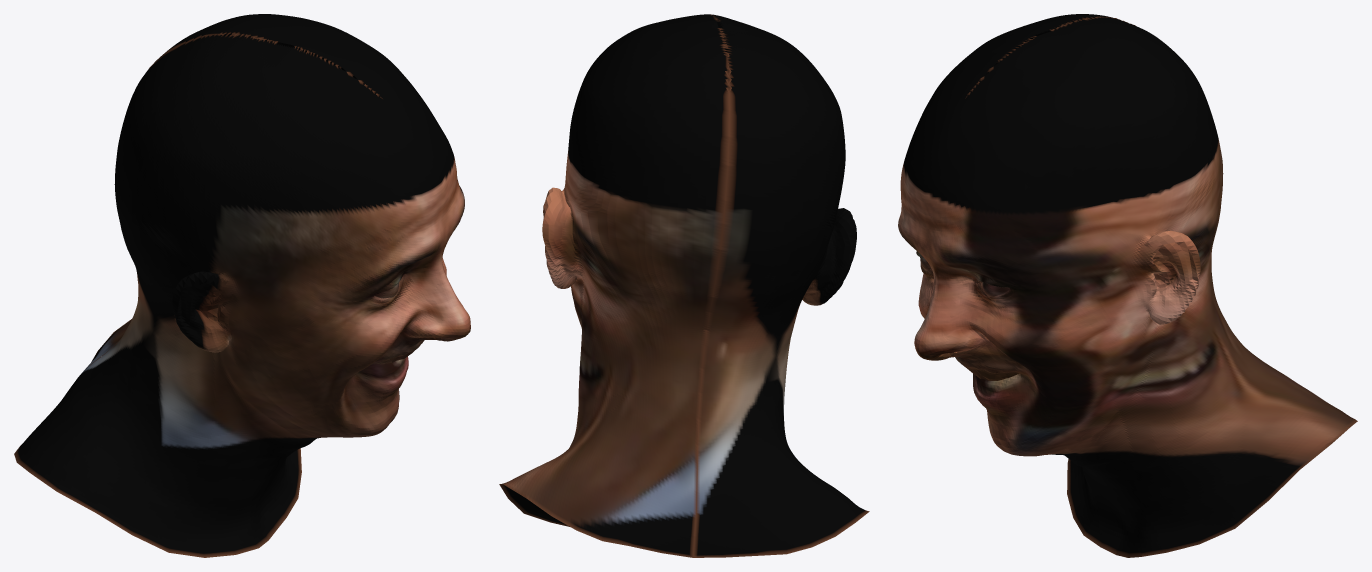
Rendered from mesh_coarse_detail.obj.
3 views of the same model, side by side, from view 1: azimuth 30°, elevation 25°; view 2: azimuth 150°, elevation 25°; view 3: azimuth 270°, elevation 25° (orthographic). The views are drawn at different scales.
Bounding box in the file's own units: 0.2268 × 0.3297 × 0.2686.
